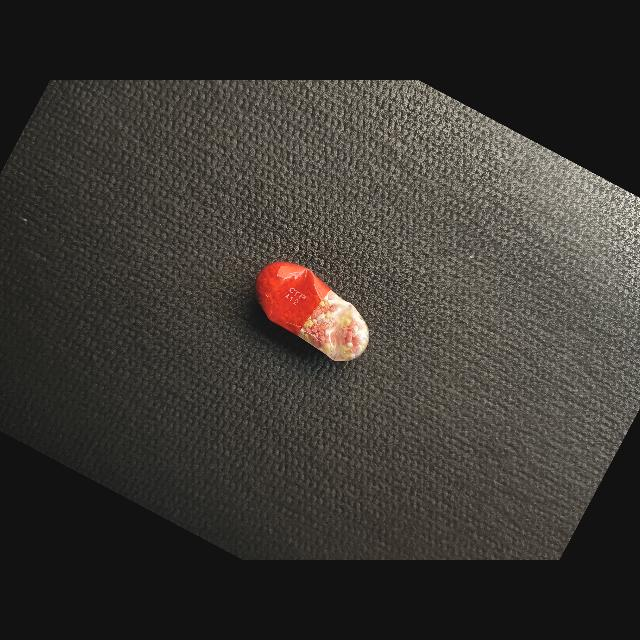Defective Capsule: (254, 262, 369, 361)
